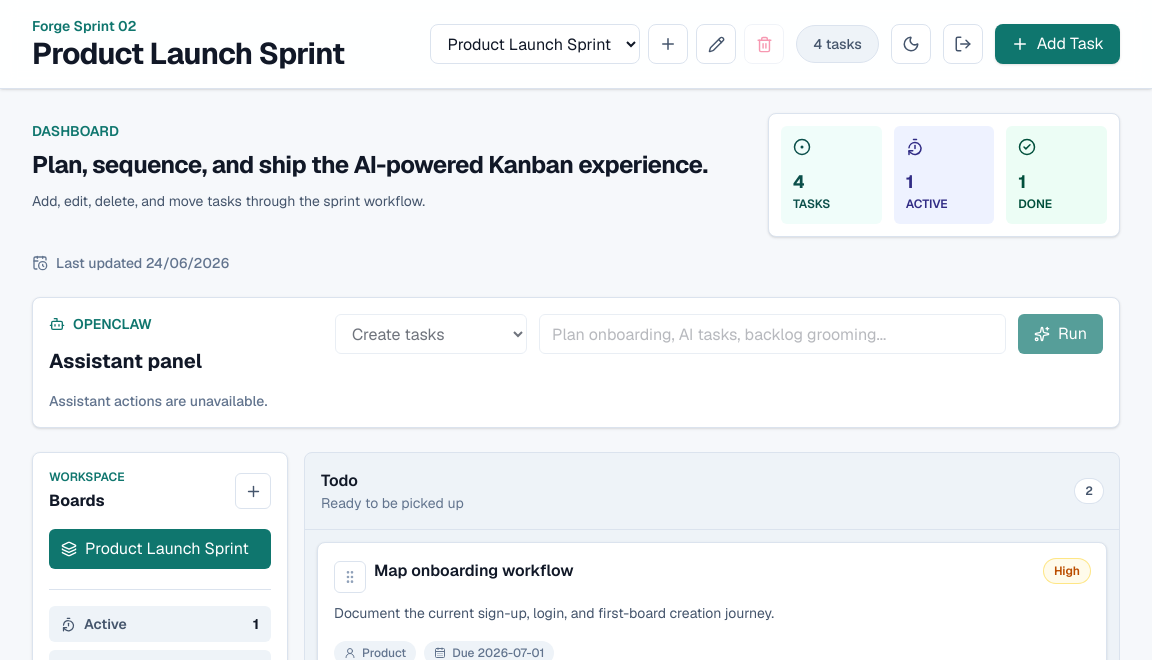
Test: KanbanBoard › adds a task through the task modal
Click the button "Add Task" at (1057, 44), box 995,24 -> 1120,64
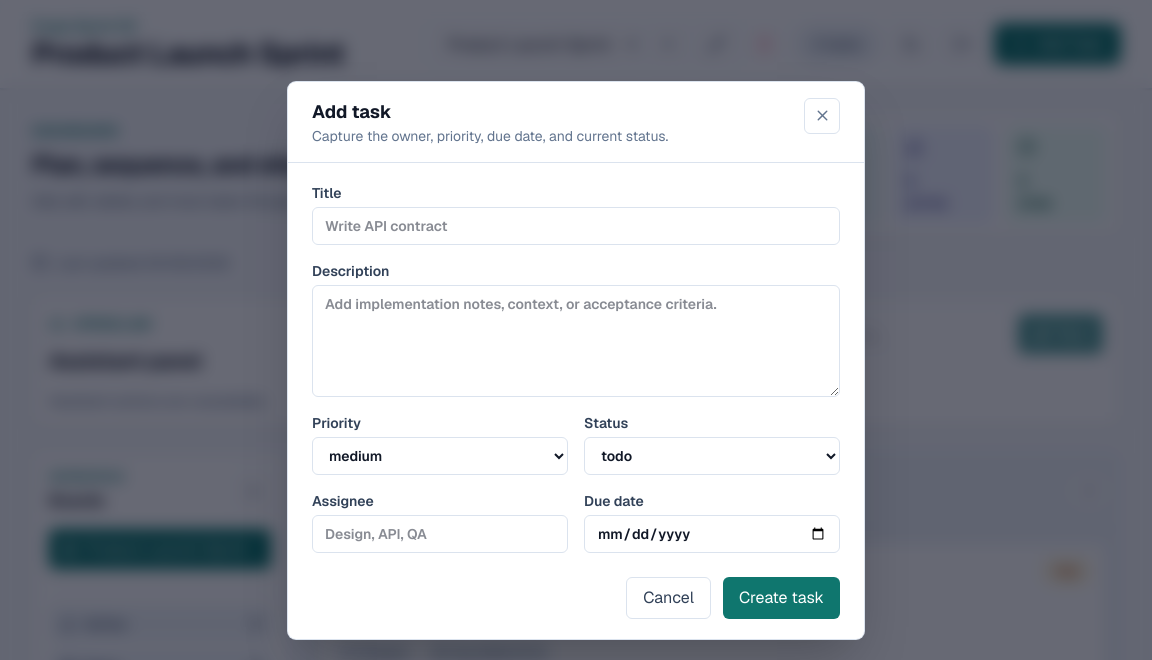
Type "Write route tests" into the field labelled "Title" at (576, 226), box 312,206 -> 840,244
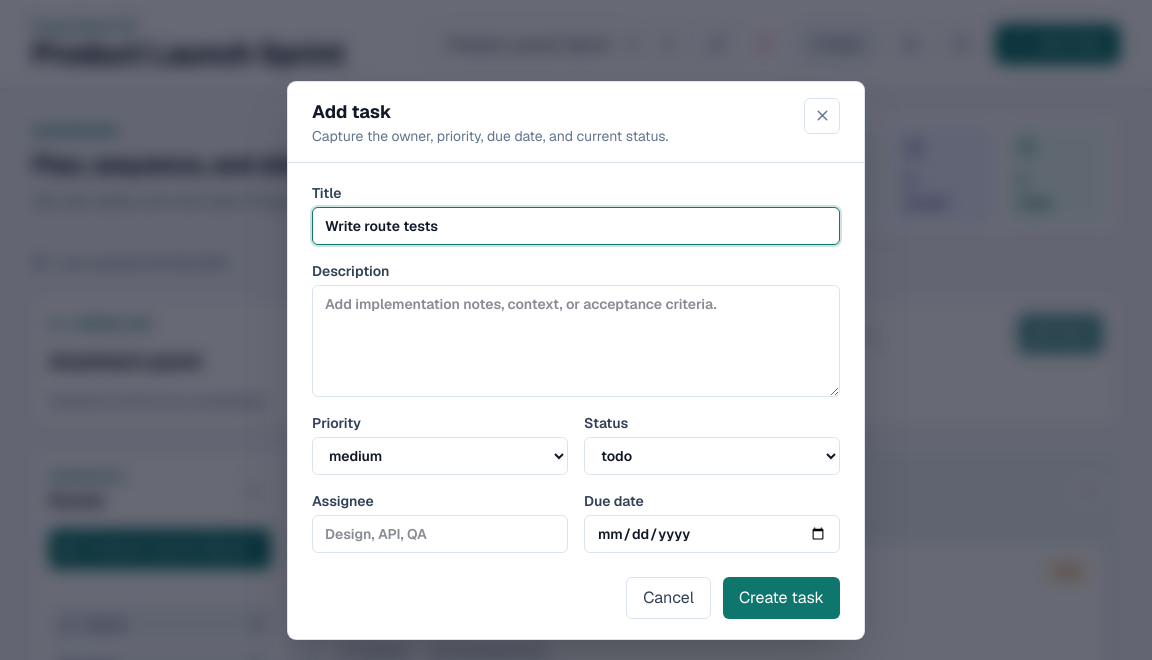
Type "Cover AI, Slack, and auth route behavior." into the text box labelled "Description" at (576, 340), box 312,284 -> 840,396
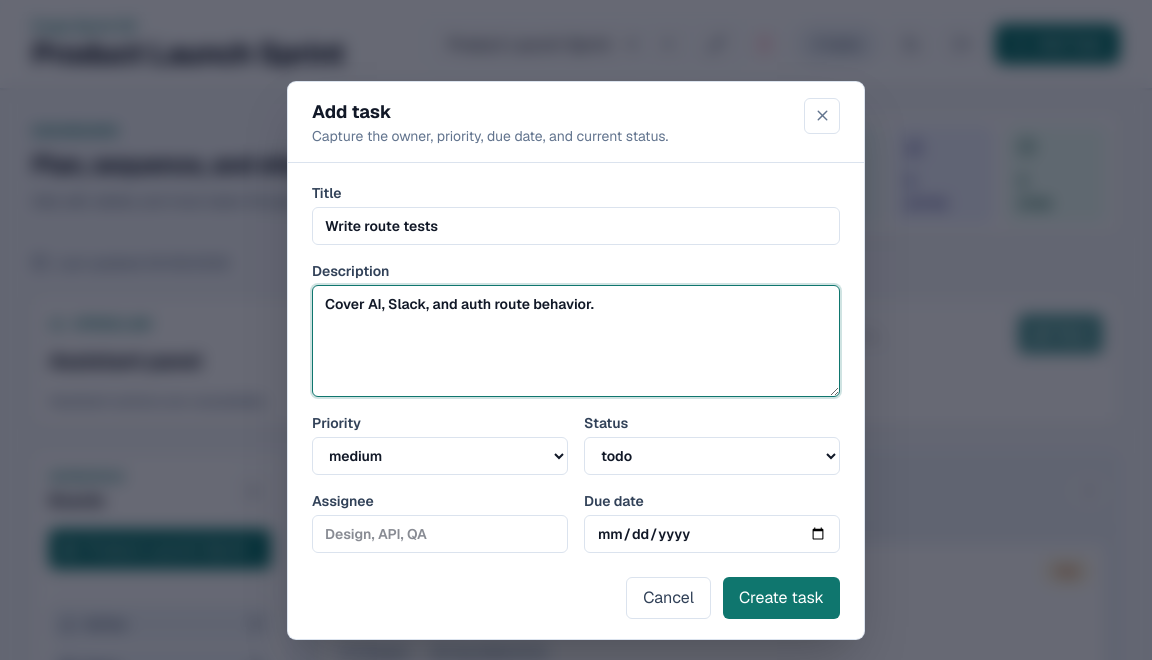
Select "urgent" in the dropdown labelled "Priority" at (440, 456), box 312,436 -> 568,474
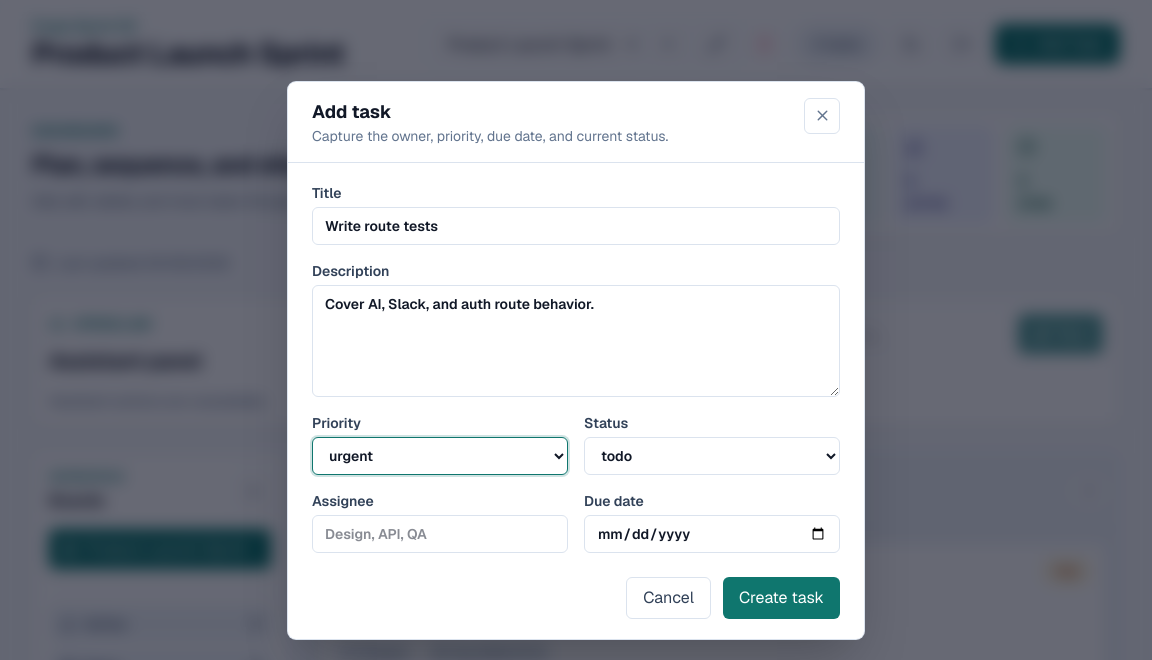
Click the button "Create task" at (782, 598), box 723,576 -> 840,618
(page scrolled)
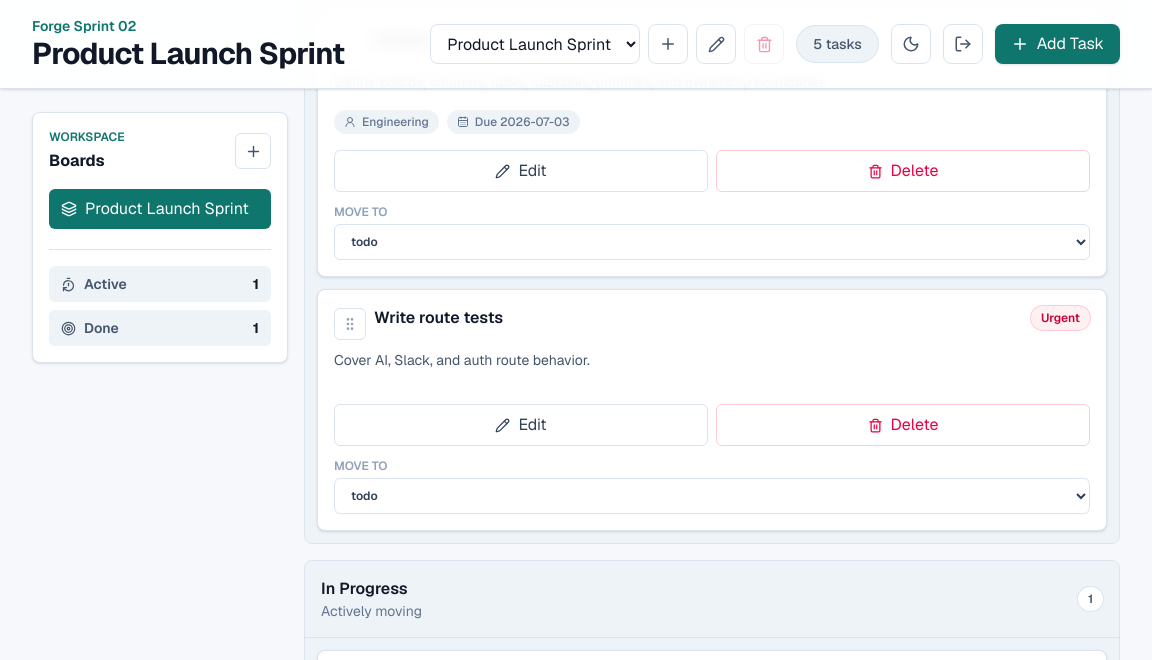
Result: the heading "Write route tests" is shown at 374,306 -> 503,330
Result: the text "Cover AI, Slack, and auth route behavior." is shown at 334,348 -> 590,372
